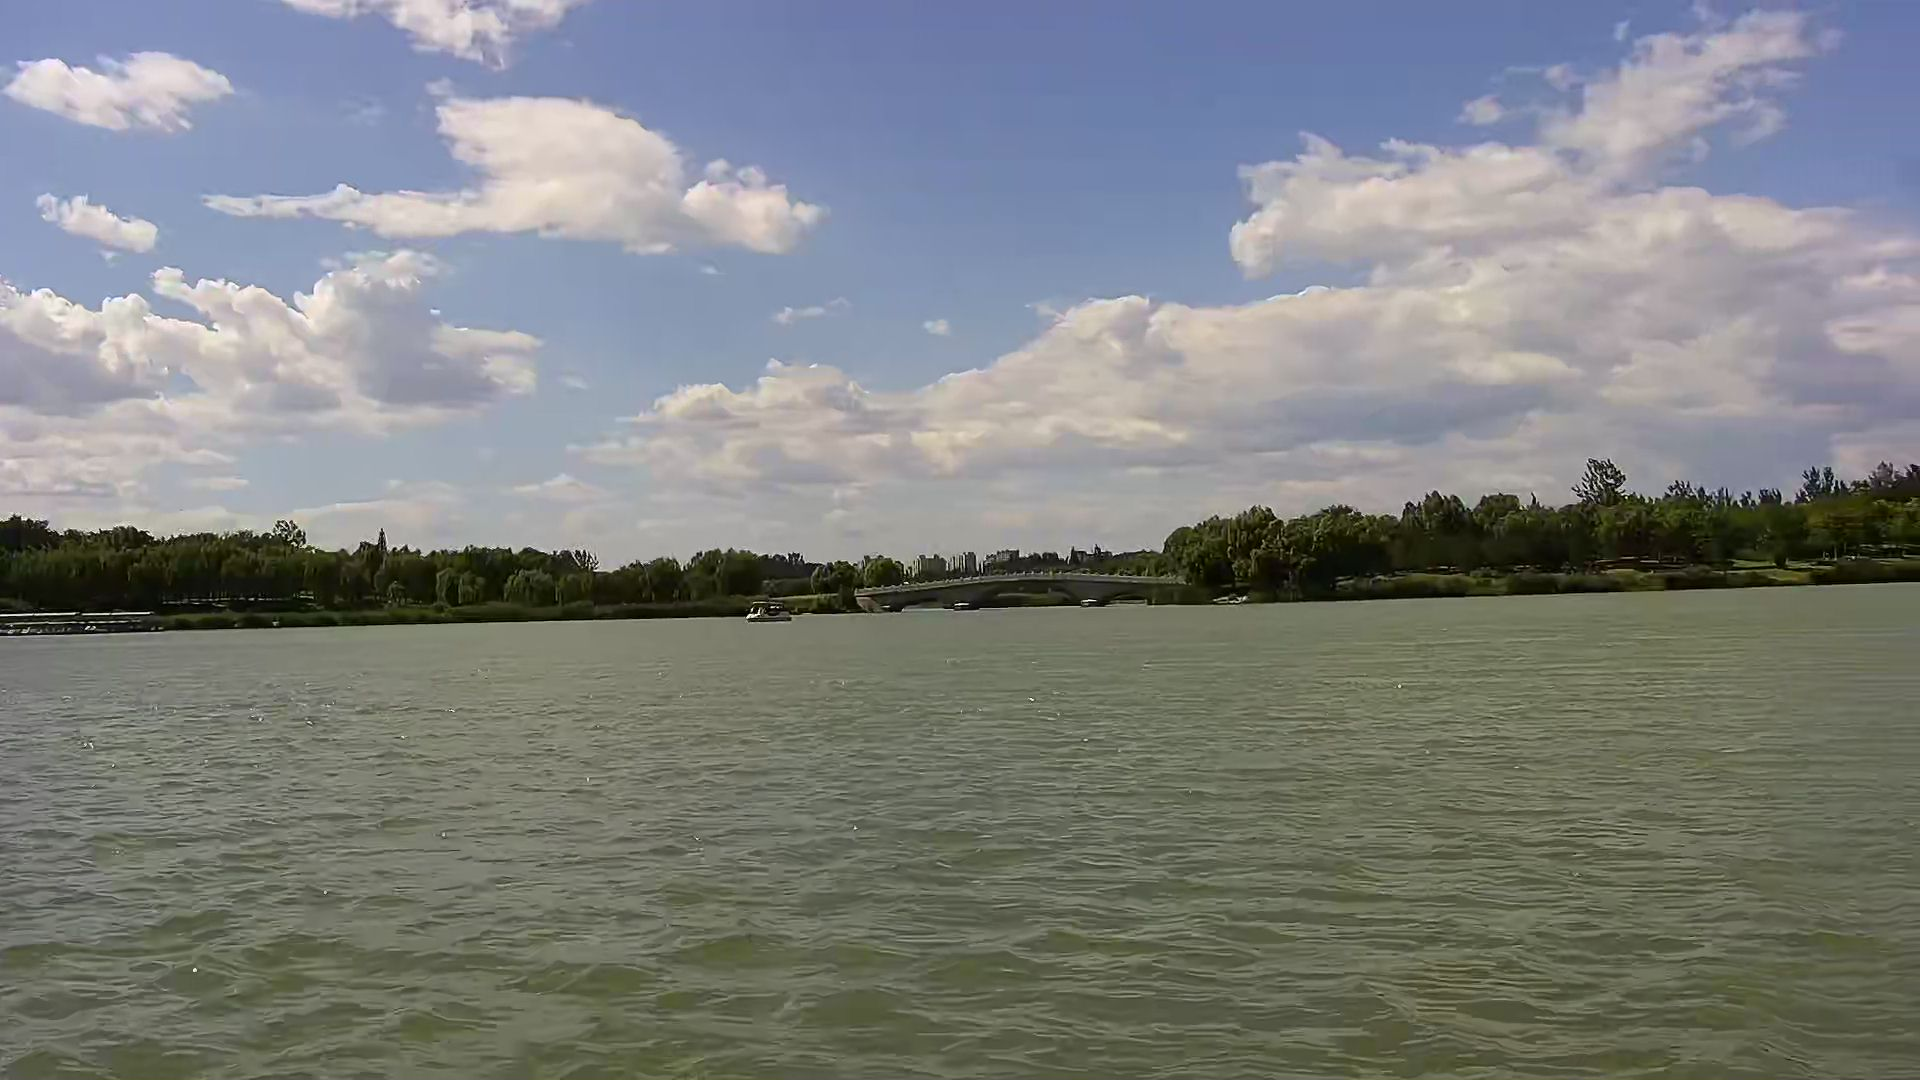boat: (742, 599, 793, 622)
bridge: (861, 572, 1185, 608), (1, 613, 156, 640)
